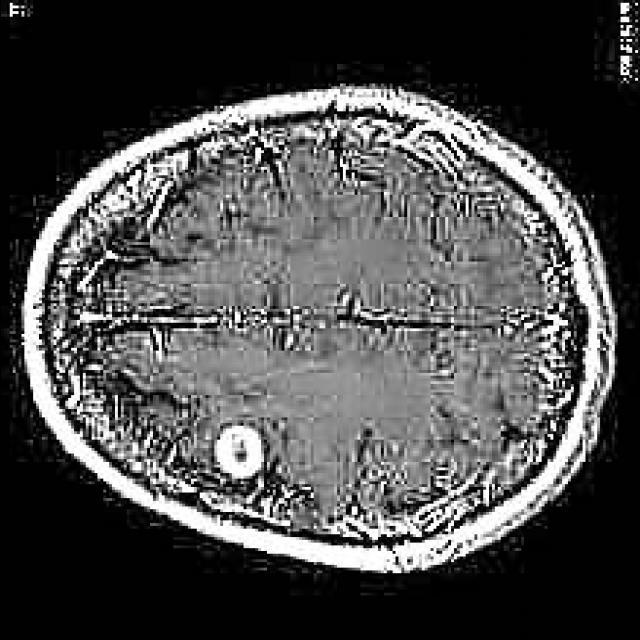tumor: (207, 417, 266, 481)
